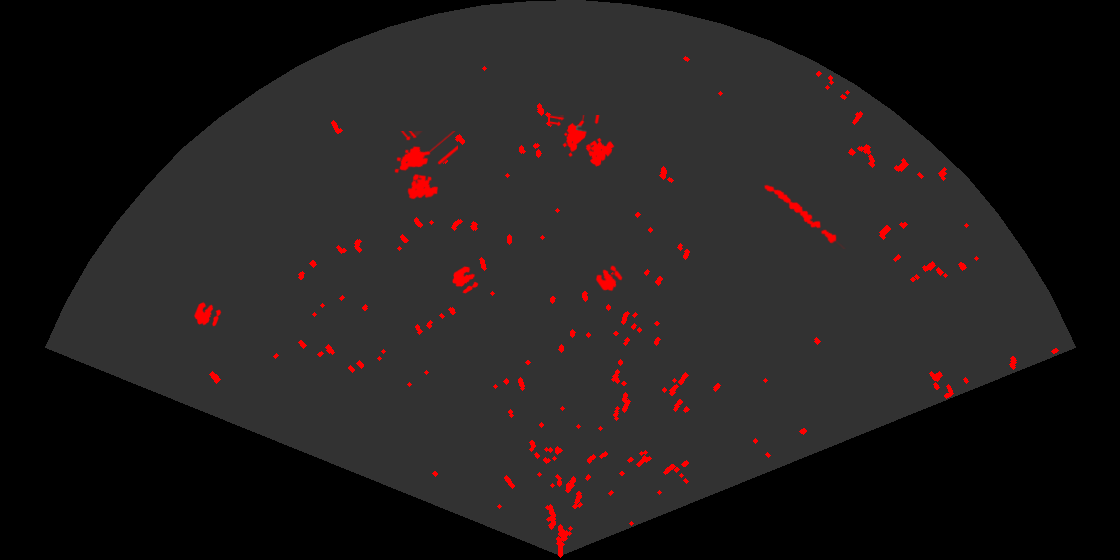ball: (451, 265, 480, 295), (594, 264, 624, 293), (192, 300, 223, 328)
cage: (393, 131, 458, 201), (550, 115, 616, 168)
chain: (762, 183, 847, 249)
